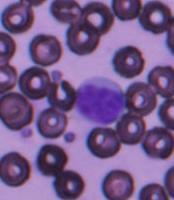L: (72, 76, 126, 126)
